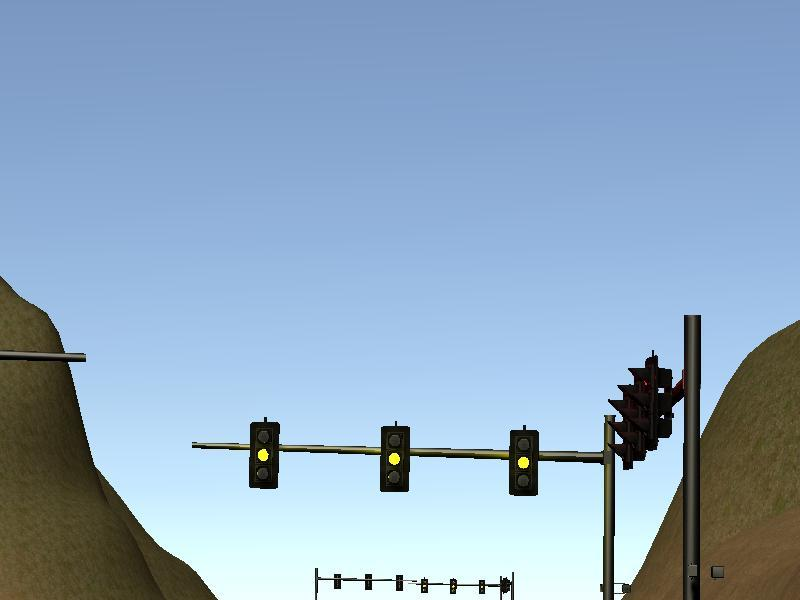Yellow: (508, 427, 539, 497), (379, 424, 409, 491), (250, 419, 278, 487)
